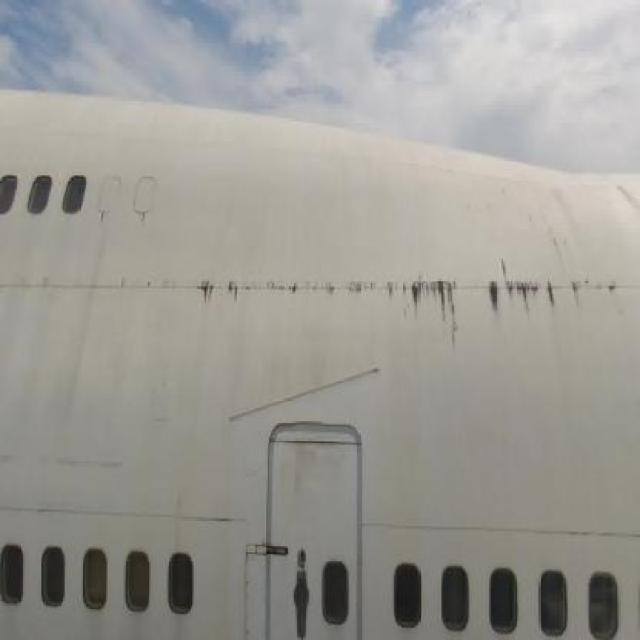Missing-Rivet: (243, 547, 252, 640)
Rust: (182, 258, 624, 347), (516, 193, 606, 261), (96, 206, 110, 229), (139, 208, 153, 230)
Scartch: (1, 422, 159, 492), (290, 436, 353, 506), (617, 183, 638, 223)
